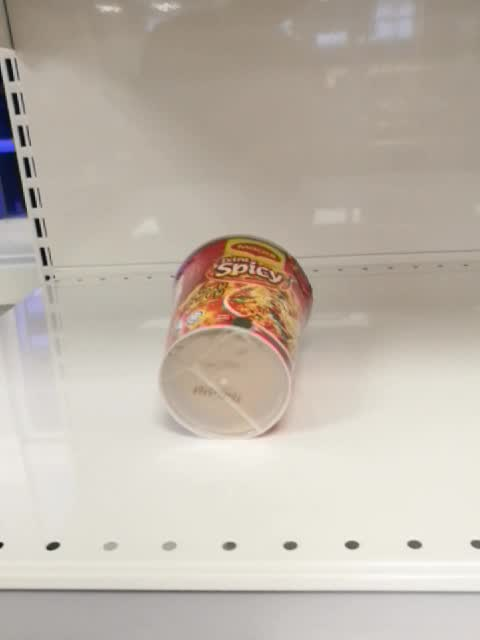maggi: (158, 233, 314, 441)
